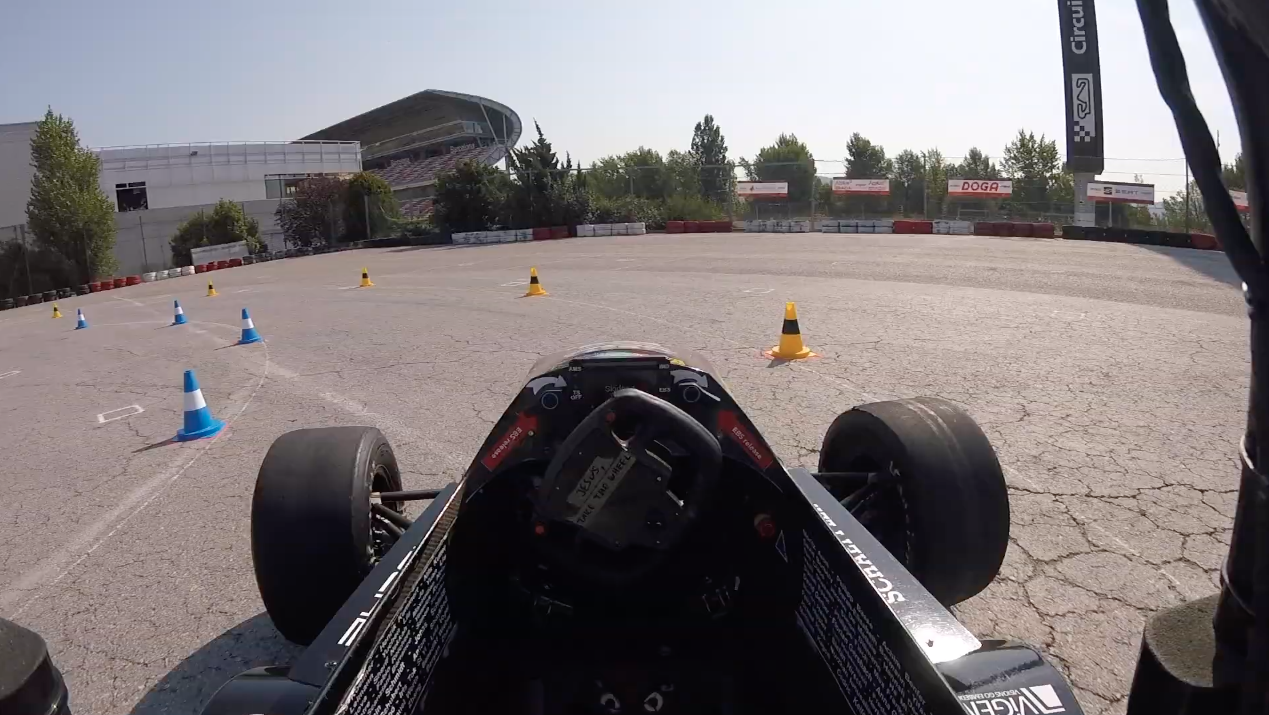lcone: (168, 367, 227, 443), (231, 306, 266, 347), (169, 296, 192, 326)
rcone: (763, 298, 817, 361), (523, 263, 551, 298), (358, 265, 376, 289)
